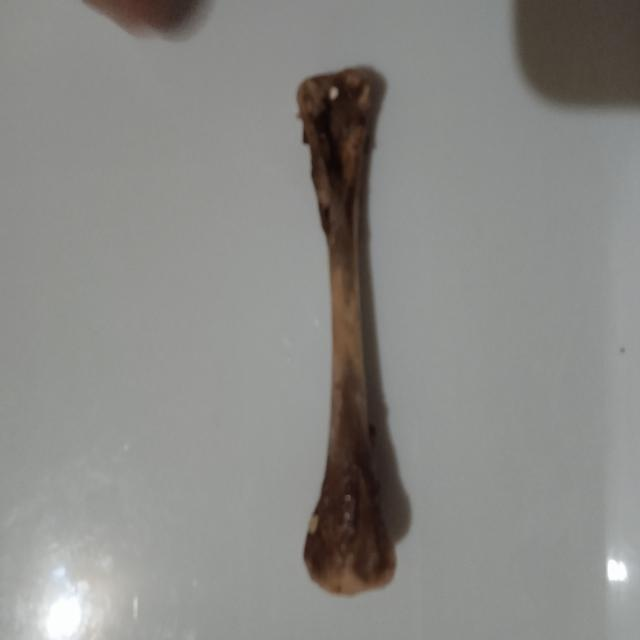bone: (279, 58, 417, 610)
